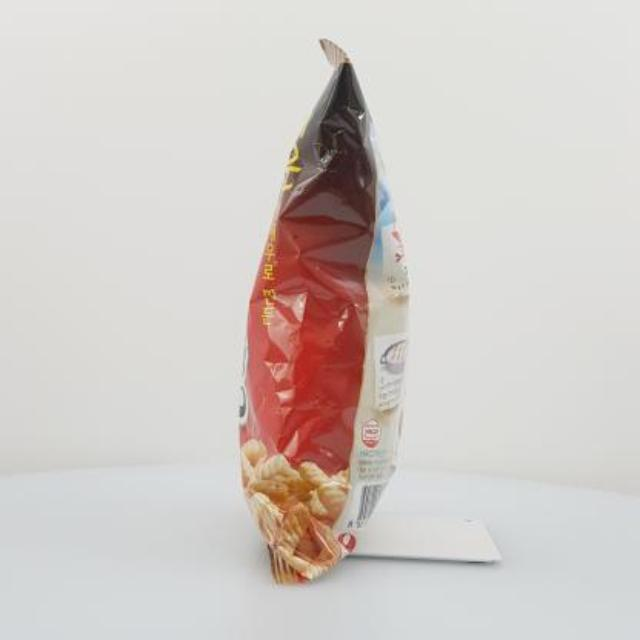snack_bag: (202, 20, 448, 602)
